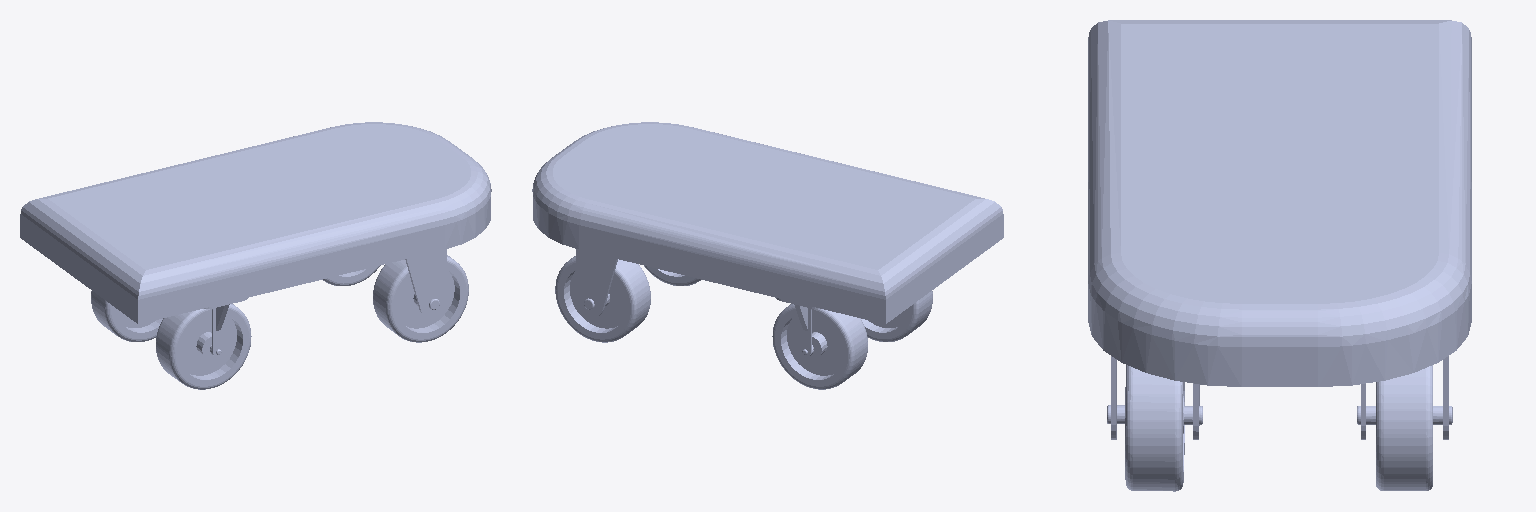
URDF robot description (skateboard):
<?xml version="1.0" encoding="utf-8"?>
<!-- This URDF was automatically created by SolidWorks to URDF Exporter! Originally created by [author] ([email redacted]) 
     Commit Version: 1.6.0-4-g7f85cfe  Build Version: 1.6.7995.38578
     For more information, please see http://wiki.ros.org/sw_urdf_exporter -->
<robot
  name="skateboard">
  <link
    name="base_link">
    <inertial>
      <origin
        xyz="-0.00458216531210875 8.24703628388157E-07 0.293836175998976"
        rpy="0 0 0" />
      <mass
        value="46.6638789557158" />
      <inertia
        ixx="0.974368837581962"
        ixy="8.66048070137321E-06"
        ixz="-0.00163912437239371"
        iyy="3.40173203153984"
        iyz="1.79342534681446E-06"
        izz="4.29781608665177" />
    </inertial>
    <visual>
      <origin
        xyz="0 0 0"
        rpy="0 0 0" />
      <geometry>
        <mesh
          filename="package://skateboard/meshes/base_link.STL" />
      </geometry>
      <material
        name="">
        <color
          rgba="0.792156862745098 0.819607843137255 0.933333333333333 1" />
      </material>
    </visual>
    <collision>
      <origin
        xyz="0 0 0"
        rpy="0 0 0" />
      <geometry>
        <mesh
          filename="package://skateboard/meshes/base_link.STL" />
      </geometry>
    </collision>
  </link>
  <link
    name="front_left_castor">
    <inertial>
      <origin
        xyz="0.004299264833723 1.11022302462516E-16 -0.0254329559279005"
        rpy="0 0 0" />
      <mass
        value="0.375748041819476" />
      <inertia
        ixx="0.00186061964746791"
        ixy="-3.32056608727919E-21"
        ixz="0.000120223941784029"
        iyy="0.00141382013714359"
        iyz="2.1063602007753E-19"
        izz="0.00087989031280542" />
    </inertial>
    <visual>
      <origin
        xyz="0 0 0"
        rpy="0 0 0" />
      <geometry>
        <mesh
          filename="package://skateboard/meshes/front_left_castor.STL" />
      </geometry>
      <material
        name="">
        <color
          rgba="0.792156862745098 0.819607843137255 0.933333333333333 1" />
      </material>
    </visual>
    <collision>
      <origin
        xyz="0 0 0"
        rpy="0 0 0" />
      <geometry>
        <mesh
          filename="package://skateboard/meshes/front_left_castor.STL" />
      </geometry>
    </collision>
  </link>
  <joint
    name="front_left_castor_joint"
    type="revolute">
    <origin
      xyz="0.26634 0.1651 0.23622"
      rpy="0 0 0" />
    <parent
      link="base_link" />
    <child
      link="front_left_castor" />
    <axis
      xyz="0 0 1" />
    <limit
      lower="-1000000"
      upper="1000000"
      effort="10"
      velocity="100" />
  </joint>
  <link
    name="front_left_shaft">
    <inertial>
      <origin
        xyz="0 0 -0.0635"
        rpy="0 0 0" />
      <mass
        value="0.0858595098594949" />
      <inertia
        ixx="0.0001009908613904"
        ixy="2.99244959851748E-38"
        ixz="1.26927539495442E-38"
        iyy="0.0001009908613904"
        iyz="-3.2318755504395E-21"
        izz="9.64668125467686E-06" />
    </inertial>
    <visual>
      <origin
        xyz="0 0 0"
        rpy="0 0 0" />
      <geometry>
        <mesh
          filename="package://skateboard/meshes/front_left_shaft.STL" />
      </geometry>
      <material
        name="">
        <color
          rgba="0.792156862745098 0.819607843137255 0.933333333333333 1" />
      </material>
    </visual>
    <collision>
      <origin
        xyz="0 0 0"
        rpy="0 0 0" />
      <geometry>
        <mesh
          filename="package://skateboard/meshes/front_left_shaft.STL" />
      </geometry>
    </collision>
  </link>
  <joint
    name="front_left_shaft_joint"
    type="continuous">
    <!-- <dynamics damping="0.7" friction="100.0"/> -->
    <origin
      xyz="0.01778 0.0635 -0.13157"
      rpy="-1.5708 0 0" />
    <parent
      link="front_left_castor" />
    <child
      link="front_left_shaft" />
    <axis
      xyz="0 0 -1" />
  </joint>
  <link
    name="front_left_wheel">
    <inertial>
      <origin
        xyz="-1.01629056954433E-05 -0.000757681850388048 -0.0634999999999999"
        rpy="0 0 0" />
      <mass
        value="1.55942631528513" />
      <inertia
        ixx="0.00546334240124887"
        ixy="4.47252015876343E-10"
        ixz="1.97875687779425E-19"
        iyy="0.00546337573952603"
        iyz="6.88553022987154E-20"
        izz="0.00981623598058744" />
    </inertial>
    <visual>
      <origin
        xyz="0 0 0"
        rpy="0 0 0" />
      <geometry>
        <mesh
          filename="package://skateboard/meshes/front_left_wheel.STL" />
      </geometry>
      <material
        name="">
        <color
          rgba="0.792156862745098 0.819607843137255 0.933333333333333 1" />
      </material>
    </visual>
    <collision>
      <origin
        xyz="0 0 0"
        rpy="0 0 0" />
      <geometry>
        <mesh
          filename="package://skateboard/meshes/front_left_wheel.STL" />
      </geometry>
    </collision>
  </link>
  <joint
    name="front_left_wheel_joint"
    type="fixed">
    <origin
      xyz="0 0 0"
      rpy="0 0 0" />
    <parent
      link="front_left_shaft" />
    <child
      link="front_left_wheel" />
    <axis
      xyz="0 0 0" />
  </joint>
  <link
    name="front_right_castor">
    <inertial>
      <origin
        xyz="0.00429851965178085 -8.00431992211692E-05 -0.0254329559279003"
        rpy="0 0 0" />
      <mass
        value="0.375748041819476" />
      <inertia
        ixx="0.00186046477537452"
        ixy="-8.31701810276659E-06"
        ixz="0.000120203103637531"
        iyy="0.00141397500923697"
        iyz="-2.23831499001512E-06"
        izz="0.000879890312805418" />
    </inertial>
    <visual>
      <origin
        xyz="0 0 0"
        rpy="0 0 0" />
      <geometry>
        <mesh
          filename="package://skateboard/meshes/front_right_castor.STL" />
      </geometry>
      <material
        name="">
        <color
          rgba="0.792156862745098 0.819607843137255 0.933333333333333 1" />
      </material>
    </visual>
    <collision>
      <origin
        xyz="0 0 0"
        rpy="0 0 0" />
      <geometry>
        <mesh
          filename="package://skateboard/meshes/front_right_castor.STL" />
      </geometry>
    </collision>
  </link>
  <joint
    name="front_right_castor_joint"
    type="revolute">
    <origin
      xyz="0.26634 -0.1651 0.23622"
      rpy="0 0 0" />
    <parent
      link="base_link" />
    <child
      link="front_right_castor" />
    <axis
      xyz="0 0 1" />
    <limit
      lower="-1000000"
      upper="1000000"
      effort="10"
      velocity="100" />
  </joint>
  <link
    name="front_right_shaft">
    <inertial>
      <origin
        xyz="0.00118223541631401 0 0.0634889936872559"
        rpy="0 0 0" />
      <mass
        value="0.0858595098594949" />
      <inertia
        ixx="0.000100959199170391"
        ixy="-4.58640336196167E-23"
        ixz="-1.70034026944128E-06"
        iyy="0.0001009908613904"
        iyz="-3.94881177138166E-21"
        izz="9.67834347468652E-06" />
    </inertial>
    <visual>
      <origin
        xyz="0 0 0"
        rpy="0 0 0" />
      <geometry>
        <mesh
          filename="package://skateboard/meshes/front_right_shaft.STL" />
      </geometry>
      <material
        name="">
        <color
          rgba="0.792156862745098 0.819607843137255 0.933333333333333 1" />
      </material>
    </visual>
    <collision>
      <origin
        xyz="0 0 0"
        rpy="0 0 0" />
      <geometry>
        <mesh
          filename="package://skateboard/meshes/front_right_shaft.STL" />
      </geometry>
    </collision>
  </link>
  <joint
    name="front_right_shaft_joint"
    type="continuous">
    <!-- <dynamics damping="0.7" friction="100.0"/> -->
    <origin
      xyz="0.016595 -0.06382 -0.13157"
      rpy="-1.5708 0 0" />
    <parent
      link="front_right_castor" />
    <child
      link="front_right_shaft" />
    <axis
      xyz="-0.018618 0 0.99983" />
  </joint>
  <link
    name="front_right_wheel">
    <inertial>
      <origin
        xyz="0.0011720742721324 -0.000757681850388159 0.0634891828990203"
        rpy="0 0 0" />
      <mass
        value="1.55942631528513" />
      <inertia
        ixx="0.00546485122506209"
        ixy="4.47174493742951E-10"
        ixz="8.1027606034062E-05"
        iyy="0.00546337573952603"
        iyz="-8.32688455325099E-12"
        izz="0.00981472715677422" />
    </inertial>
    <visual>
      <origin
        xyz="0 0 0"
        rpy="0 0 0" />
      <geometry>
        <mesh
          filename="package://skateboard/meshes/front_right_wheel.STL" />
      </geometry>
      <material
        name="">
        <color
          rgba="0.792156862745098 0.819607843137255 0.933333333333333 1" />
      </material>
    </visual>
    <collision>
      <origin
        xyz="0 0 0"
        rpy="0 0 0" />
      <geometry>
        <mesh
          filename="package://skateboard/meshes/front_right_wheel.STL" />
      </geometry>
    </collision>
  </link>
  <joint
    name="front_right_wheel_joint"
    type="fixed">
    <origin
      xyz="0 0 0"
      rpy="0 0 0" />
    <parent
      link="front_right_shaft" />
    <child
      link="front_right_wheel" />
    <axis
      xyz="0 0 0" />
  </joint>
  <link
    name="rear_left_castor">
    <inertial>
      <origin
        xyz="-4.44089209850063E-16 -0.121707358571448 -0.06858"
        rpy="0 0 0" />
      <mass
        value="0.366948048129126" />
      <inertia
        ixx="0.000748556266523244"
        ixy="-1.0023345895942E-19"
        ixz="-1.34466807184789E-19"
        iyy="0.000740864473475818"
        iyz="-8.44762671544618E-20"
        izz="0.000632863553143694" />
    </inertial>
    <visual>
      <origin
        xyz="0 0 0"
        rpy="0 0 0" />
      <geometry>
        <mesh
          filename="package://skateboard/meshes/rear_left_castor.STL" />
      </geometry>
      <material
        name="">
        <color
          rgba="0.792156862745098 0.819607843137255 0.933333333333333 1" />
      </material>
    </visual>
    <collision>
      <origin
        xyz="0 0 0"
        rpy="0 0 0" />
      <geometry>
        <mesh
          filename="package://skateboard/meshes/rear_left_castor.STL" />
      </geometry>
    </collision>
  </link>
  <joint
    name="rear_left_castor_joint"
    type="fixed">
    <origin
      xyz="-0.24166 0.20828 0.10478"
      rpy="-1.5708 0 0" />
    <parent
      link="base_link" />
    <child
      link="rear_left_castor" />
    <axis
      xyz="0 0 0" />
  </joint>
  <link
    name="rear_left_shaft">
    <inertial>
      <origin
        xyz="0 -1.11022302462516E-16 -0.0685799999999998"
        rpy="0 0 0" />
      <mass
        value="0.0679514721041126" />
      <inertia
        ixx="5.51726293118822E-05"
        ixy="2.58732738125917E-22"
        ixz="-6.57806775316306E-21"
        iyy="5.51726293118822E-05"
        iyz="-9.63988248762429E-21"
        izz="7.75429241942671E-06" />
    </inertial>
    <visual>
      <origin
        xyz="0 0 0"
        rpy="0 0 0" />
      <geometry>
        <mesh
          filename="package://skateboard/meshes/rear_left_shaft.STL" />
      </geometry>
      <material
        name="">
        <color
          rgba="0.792156862745098 0.819607843137255 0.933333333333333 1" />
      </material>
    </visual>
    <collision>
      <origin
        xyz="0 0 0"
        rpy="0 0 0" />
      <geometry>
        <mesh
          filename="package://skateboard/meshes/rear_left_shaft.STL" />
      </geometry>
    </collision>
  </link>
  <joint
    name="rear_left_shaft_joint"
    type="continuous">
    <!-- <dynamics damping="0.7" friction="100.0"/> -->
    <origin
      xyz="0 0 0"
      rpy="0 0 0" />
    <parent
      link="rear_left_castor" />
    <child
      link="rear_left_shaft" />
    <axis
      xyz="0 0 1" />
  </joint>
  <link
    name="rear_left_wheel">
    <inertial>
      <origin
        xyz="-9.36913719651322E-05 -0.000751935501142942 -0.06858"
        rpy="0 0 0" />
      <mass
        value="1.55942631528513" />
      <inertia
        ixx="0.00546334290510486"
        ixy="4.09192546748377E-09"
        ixz="2.12442506263347E-19"
        iyy="0.00546337523567005"
        iyz="1.6750341351256E-19"
        izz="0.00981623598058744" />
    </inertial>
    <visual>
      <origin
        xyz="0 0 0"
        rpy="0 0 0" />
      <geometry>
        <mesh
          filename="package://skateboard/meshes/rear_left_wheel.STL" />
      </geometry>
      <material
        name="">
        <color
          rgba="0.792156862745098 0.819607843137255 0.933333333333333 1" />
      </material>
    </visual>
    <collision>
      <origin
        xyz="0 0 0"
        rpy="0 0 0" />
      <geometry>
        <mesh
          filename="package://skateboard/meshes/rear_left_wheel.STL" />
      </geometry>
    </collision>
  </link>
  <joint
    name="rear_left_wheel_joint"
    type="fixed">
    <origin
      xyz="0 0 0"
      rpy="0 0 0" />
    <parent
      link="rear_left_shaft" />
    <child
      link="rear_left_wheel" />
    <axis
      xyz="0 0 0" />
  </joint>
  <link
    name="rear_right_castor">
    <inertial>
      <origin
        xyz="-1.11022302462516E-16 -0.121707358571448 0.06858"
        rpy="0 0 0" />
      <mass
        value="0.366948048129126" />
      <inertia
        ixx="0.000748556266523244"
        ixy="-2.42371862211308E-20"
        ixz="-1.3413703457399E-19"
        iyy="0.000740864473475818"
        iyz="-5.55634906273331E-20"
        izz="0.000632863553143694" />
    </inertial>
    <visual>
      <origin
        xyz="0 0 0"
        rpy="0 0 0" />
      <geometry>
        <mesh
          filename="package://skateboard/meshes/rear_right_castor.STL" />
      </geometry>
      <material
        name="">
        <color
          rgba="0.792156862745098 0.819607843137255 0.933333333333333 1" />
      </material>
    </visual>
    <collision>
      <origin
        xyz="0 0 0"
        rpy="0 0 0" />
      <geometry>
        <mesh
          filename="package://skateboard/meshes/rear_right_castor.STL" />
      </geometry>
    </collision>
  </link>
  <joint
    name="rear_right_castor_joint"
    type="fixed">
    <origin
      xyz="-0.241661291056331 -0.20828 0.104775"
      rpy="-1.5707963267949 0 0" />
    <parent
      link="base_link" />
    <child
      link="rear_right_castor" />
    <axis
      xyz="0 0 0" />
  </joint>
  <link
    name="rear_right_shaft">
    <inertial>
      <origin
        xyz="1.11022302462516E-16 0 0.0685800000000001"
        rpy="0 0 0" />
      <mass
        value="0.0679514721041126" />
      <inertia
        ixx="5.51726293118822E-05"
        ixy="2.79660407623498E-22"
        ixz="-1.08428547833035E-20"
        iyy="5.51726293118822E-05"
        iyz="2.72103108665618E-21"
        izz="7.7542924194267E-06" />
    </inertial>
    <visual>
      <origin
        xyz="0 0 0"
        rpy="0 0 0" />
      <geometry>
        <mesh
          filename="package://skateboard/meshes/rear_right_shaft.STL" />
      </geometry>
      <material
        name="">
        <color
          rgba="0.792156862745098 0.819607843137255 0.933333333333333 1" />
      </material>
    </visual>
    <collision>
      <origin
        xyz="0 0 0"
        rpy="0 0 0" />
      <geometry>
        <mesh
          filename="package://skateboard/meshes/rear_right_shaft.STL" />
      </geometry>
    </collision>
  </link>
  <joint
    name="rear_right_shaft_joint"
    type="continuous">
    <!-- <dynamics damping="0.7" friction="100.0"/> -->
    <origin
      xyz="0 0 0"
      rpy="0 0 0" />
    <parent
      link="rear_right_castor" />
    <child
      link="rear_right_shaft" />
    <axis
      xyz="0 0 1" />
  </joint>
  <link
    name="rear_right_wheel">
    <inertial>
      <origin
        xyz="-9.36913719651322E-05 -0.000751935501142831 0.06858"
        rpy="0 0 0" />
      <mass
        value="1.55942631528513" />
      <inertia
        ixx="0.00546334290510487"
        ixy="4.09192546791387E-09"
        ixz="1.90526703046973E-18"
        iyy="0.00546337523567006"
        iyz="-1.08792945849083E-19"
        izz="0.00981623598058745" />
    </inertial>
    <visual>
      <origin
        xyz="0 0 0"
        rpy="0 0 0" />
      <geometry>
        <mesh
          filename="package://skateboard/meshes/rear_right_wheel.STL" />
      </geometry>
      <material
        name="">
        <color
          rgba="0.792156862745098 0.819607843137255 0.933333333333333 1" />
      </material>
    </visual>
    <collision>
      <origin
        xyz="0 0 0"
        rpy="0 0 0" />
      <geometry>
        <mesh
          filename="package://skateboard/meshes/rear_right_wheel.STL" />
      </geometry>
    </collision>
  </link>
  <joint
    name="rear_right_wheel_joint"
    type="fixed">
    <origin
      xyz="0 0 0"
      rpy="0 0 0" />
    <parent
      link="rear_right_shaft" />
    <child
      link="rear_right_wheel" />
    <axis
      xyz="0 0 0" />
  </joint>

  <link name="dummy_link" >
    <origin
          xyz="0 0 0"
          rpy="0 0 0" />
  </link>
  <joint name="dummy_joint" type="fixed">
    <parent link="dummy_link"/>
    <child link="base_link"/>
    <origin xyz="0 0 0" rpy="0 0 0" />
    <axis xyz="0 0 0" /> 
  </joint>

  <transmission name="rear_motor_left">
  <type>transmission_interface/SimpleTransmission</type>
  <joint name="rear_left_shaft_joint">
    <hardwareInterface>hardware_interface/VelocityJointInterface</hardwareInterface>
  </joint>
  <actuator name="rear_motor_left">
    <mechanicalReduction>1</mechanicalReduction>
    <hardwareInterface>hardware_interface/VelocityJointInterface</hardwareInterface>
  </actuator>
  </transmission>

  <transmission name="rear_motor_right">
  <type>transmission_interface/SimpleTransmission</type>
  <joint name="rear_right_shaft_joint">
    <hardwareInterface>hardware_interface/VelocityJointInterface</hardwareInterface>
  </joint>
  <actuator name="rear_motor_right">
    <mechanicalReduction>1</mechanicalReduction>
    <hardwareInterface>hardware_interface/VelocityJointInterface</hardwareInterface>
  </actuator>
  </transmission>

  <transmission name="left_castor_motor">
  <type>transmission_interface/SimpleTransmission</type>
  <joint name="front_left_castor_joint">
    <hardwareInterface>hardware_interface/EffortJointInterface</hardwareInterface>
  </joint>
  <actuator name="left_castor_motor">
    <mechanicalReduction>50</mechanicalReduction>
    <hardwareInterface>hardware_interface/EffortJointInterface</hardwareInterface>
  </actuator>
  </transmission>

  <transmission name="right_castor_motor">
  <type>transmission_interface/SimpleTransmission</type>
  <joint name="front_right_castor_joint">
    <hardwareInterface>hardware_interface/EffortJointInterface</hardwareInterface>
  </joint>
  <actuator name="right_castor_motor">
    <mechanicalReduction>50</mechanicalReduction>
    <hardwareInterface>hardware_interface/EffortJointInterface</hardwareInterface>
  </actuator>
  </transmission>

</robot>

--- Facts derived from the render (not from the file) ---
Views: 3 orthographic renders of the robot side by side, from view 1: azimuth 30°, elevation 25°; view 2: azimuth 150°, elevation 25°; view 3: azimuth 270°, elevation 25°.
Robot: skateboard — 14 links, 13 joints (2 revolute, 4 continuous, 7 fixed); root link dummy_link; default pose: every joint at zero.
Visible links, largest first — view 1: base_link, rear_right_wheel, front_right_wheel, front_right_castor, rear_left_wheel, rear_right_castor; view 2: base_link, rear_left_wheel, front_left_wheel, front_left_castor, rear_right_wheel, rear_left_castor; view 3: base_link, front_right_wheel, front_left_wheel, front_right_castor, front_left_castor, front_left_shaft.
Boxes of the visible links, x1,y1,x2,y2 form: base_link: [20, 122, 491, 323]; rear_right_wheel: [156, 304, 251, 389]; front_right_wheel: [373, 255, 468, 342]; front_right_castor: [405, 249, 446, 317]; rear_left_wheel: [91, 291, 162, 341]; rear_right_castor: [204, 298, 247, 356]; base_link: [532, 122, 1003, 323]; rear_left_wheel: [772, 304, 867, 389]; front_left_wheel: [555, 256, 650, 342]; front_left_castor: [576, 249, 617, 317]; rear_right_wheel: [861, 291, 932, 341]; rear_left_castor: [776, 298, 819, 356]; base_link: [1088, 20, 1471, 386]; front_right_wheel: [1125, 365, 1184, 491]; front_left_wheel: [1376, 365, 1432, 490]; front_right_castor: [1111, 356, 1199, 439]; front_left_castor: [1361, 356, 1448, 439]; front_left_shaft: [1357, 406, 1452, 424].
Bounding box of the posed robot: 0.9652 × 0.508 × 0.3416 m (x, y, z).
13 mesh visuals loaded from 13 distinct referenced files (13 binary STL).
